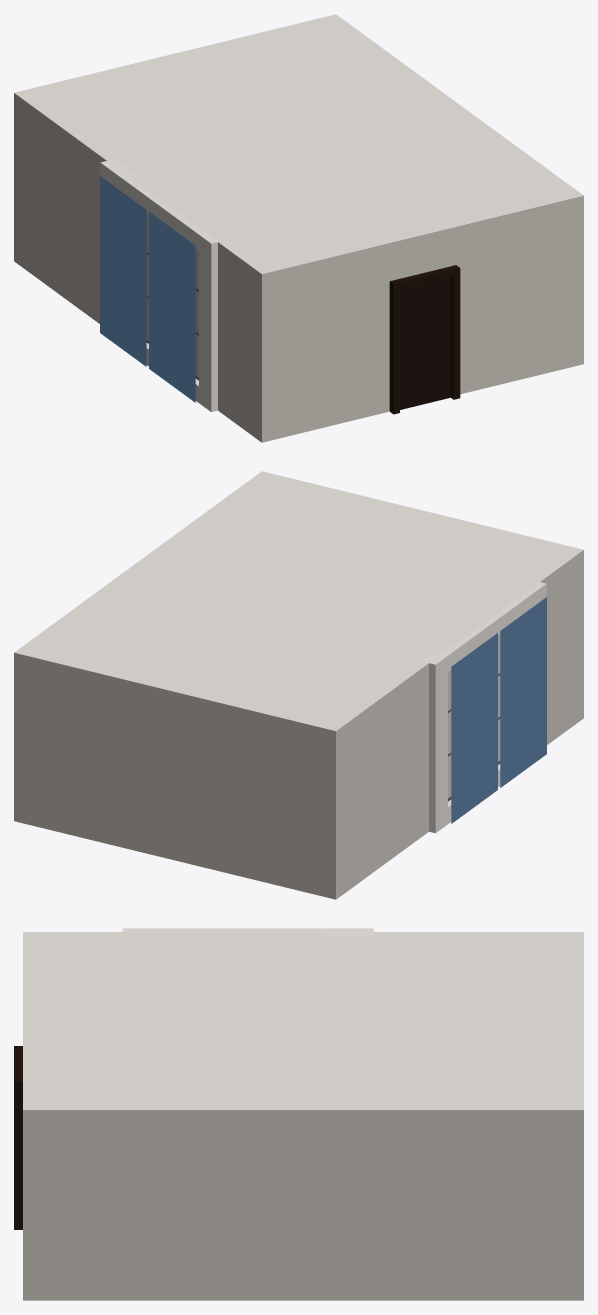
The model's file is bedroom_assembly_old.fbx.
3 views of the same model, one above another, from view 1: azimuth 30°, elevation 25°; view 2: azimuth 150°, elevation 25°; view 3: azimuth 270°, elevation 25° (orthographic). The views are drawn at different scales.
Visible parts, largest first — view 1: Room_Shell|Ceiling_L_Bedroom_shell.blend|Dupli|1, Room_Shell|Wall_South_L_Bedroom_shell.blend|Dupli|3, Room_Shell|Wall_West_L_Bedroom_shell.blend|Dupli|5, Window_Frame_Group|Window_NightExterior_L_window.blend|Dupli, Window_Frame_Group.001|Window_NightExterior_L_window.blend|D, Door_Master_Col|Door_Panel_L_door.blend|Dupli|1, Window_Frame_Group.001|Wall_Left_L_window.blend|Dupli|2, Door_Master_Col|Frame_Left_L_door.blend|Dupli|28, Window_Frame_Group.001|Wall_Top_L_window.blend|Dupli|1, Window_Frame_Group|Wall_Top_L_window.blend|Dupli|1, Door_Master_Col|Frame_Right_L_door.blend|Dupli|29, Door_Master_Col|Frame_Top_L_door.blend|Dupli|30; view 2: Room_Shell|Ceiling_L_Bedroom_shell.blend|Dupli|1, Room_Shell|Wall_North_L_Bedroom_shell.blend|Dupli|2, Room_Shell|Wall_West_L_Bedroom_shell.blend|Dupli|5, Window_Frame_Group|Window_NightExterior_L_window.blend|Dupli, Window_Frame_Group.001|Window_NightExterior_L_window.blend|D, Window_Frame_Group|Wall_Right_L_window.blend|Dupli|3, Window_Frame_Group|Wall_Top_L_window.blend|Dupli|1, Window_Frame_Group.001|Wall_Top_L_window.blend|Dupli|1; view 3: Room_Shell|Wall_East_L_Bedroom_shell.blend|Dupli|4, Room_Shell|Ceiling_L_Bedroom_shell.blend|Dupli|1, Door_Master_Col|Frame_Right_L_door.blend|Dupli|29, Window_Frame_Group|Wall_Top_L_window.blend|Dupli|1.
Part boxes in pixels (x1,y1,x2,y2): Room_Shell|Ceiling_L_Bedroom_shell.blend|Dupli|1: (14, 14, 583, 273); Room_Shell|Wall_South_L_Bedroom_shell.blend|Dupli|3: (262, 195, 583, 442); Room_Shell|Wall_West_L_Bedroom_shell.blend|Dupli|5: (14, 93, 261, 442); Window_Frame_Group|Window_NightExterior_L_window.blend|Dupli: (100, 176, 146, 366); Window_Frame_Group.001|Window_NightExterior_L_window.blend|D: (149, 212, 195, 402); Door_Master_Col|Door_Panel_L_door.blend|Dupli|1: (400, 277, 450, 409); Window_Frame_Group.001|Wall_Left_L_window.blend|Dupli|2: (199, 252, 217, 395); Door_Master_Col|Frame_Left_L_door.blend|Dupli|28: (389, 280, 399, 414); Window_Frame_Group.001|Wall_Top_L_window.blend|Dupli|1: (149, 196, 217, 260); Window_Frame_Group|Wall_Top_L_window.blend|Dupli|1: (100, 159, 168, 220); Door_Master_Col|Frame_Right_L_door.blend|Dupli|29: (451, 265, 460, 399); Door_Master_Col|Frame_Top_L_door.blend|Dupli|30: (390, 266, 460, 289); Room_Shell|Ceiling_L_Bedroom_shell.blend|Dupli|1: (14, 471, 583, 730); Room_Shell|Wall_North_L_Bedroom_shell.blend|Dupli|2: (14, 652, 335, 899); Room_Shell|Wall_West_L_Bedroom_shell.blend|Dupli|5: (336, 550, 583, 899); Window_Frame_Group|Window_NightExterior_L_window.blend|Dupli: (451, 633, 497, 823); Window_Frame_Group.001|Window_NightExterior_L_window.blend|D: (500, 597, 546, 787); Window_Frame_Group|Wall_Right_L_window.blend|Dupli|3: (429, 673, 447, 816); Window_Frame_Group|Wall_Top_L_window.blend|Dupli|1: (422, 618, 497, 681); Window_Frame_Group.001|Wall_Top_L_window.blend|Dupli|1: (478, 582, 546, 641); Room_Shell|Wall_East_L_Bedroom_shell.blend|Dupli|4: (23, 1110, 583, 1300); Room_Shell|Ceiling_L_Bedroom_shell.blend|Dupli|1: (23, 932, 583, 1109); Door_Master_Col|Frame_Right_L_door.blend|Dupli|29: (14, 1079, 22, 1229); Window_Frame_Group|Wall_Top_L_window.blend|Dupli|1: (233, 928, 373, 935).
Bounding box in the file's own units: 627 × 302 × 813.
